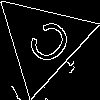C: (18, 16, 75, 75)
